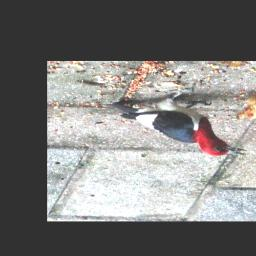Woodpecker: (103, 84, 252, 160)
